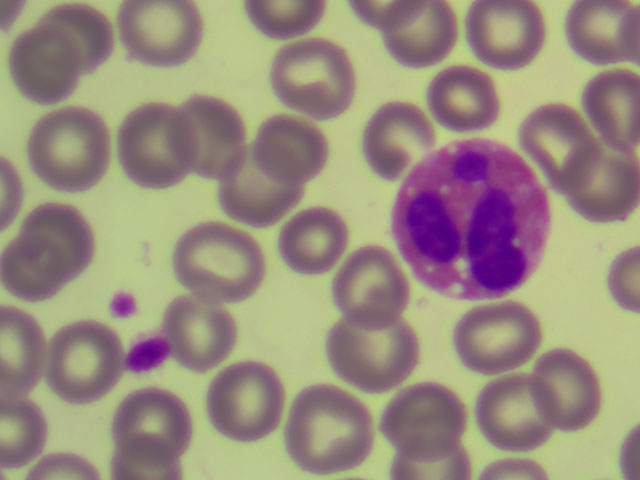Platelets: (127, 338, 173, 372), (107, 284, 143, 320)
RBC: (7, 26, 85, 107), (29, 109, 107, 190), (12, 209, 90, 290), (112, 106, 190, 187), (177, 96, 255, 177), (260, 103, 338, 184), (217, 147, 295, 228), (276, 195, 354, 276), (181, 220, 259, 301), (166, 294, 244, 375), (207, 360, 285, 441), (115, 380, 193, 461), (44, 318, 122, 399), (289, 389, 367, 470), (330, 318, 408, 399), (329, 242, 407, 323), (353, 94, 431, 175), (430, 54, 508, 135), (274, 36, 352, 117), (117, 1, 195, 82), (515, 100, 593, 181), (561, 147, 639, 228), (461, 298, 539, 379), (469, 373, 547, 454), (529, 350, 607, 431), (384, 383, 462, 464), (384, 1, 462, 81), (466, 1, 544, 81), (1, 303, 46, 423)
WBC: (396, 141, 548, 297)
